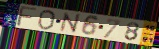6: (79, 15, 101, 38)
7: (105, 18, 123, 40)
8: (123, 22, 141, 42)
F: (15, 6, 40, 27)
N: (59, 11, 82, 34)
O: (36, 10, 57, 31)
